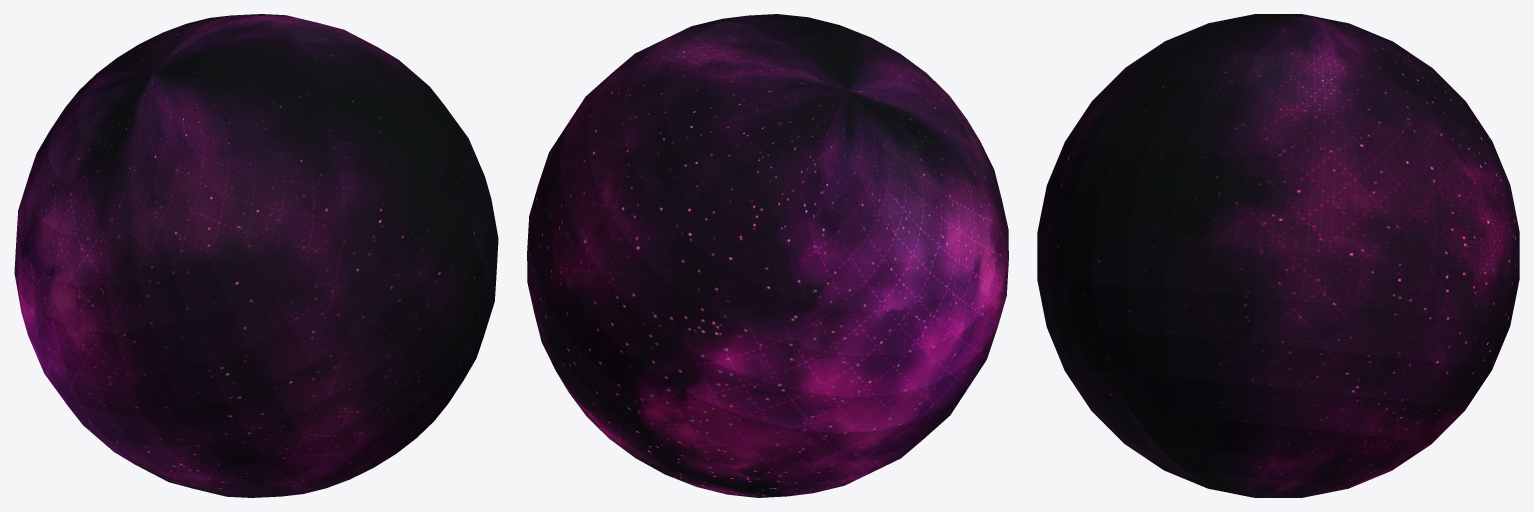
3 renders of one model, left to right at view 1: azimuth 30°, elevation 25°; view 2: azimuth 150°, elevation 25°; view 3: azimuth 270°, elevation 25°, orthographic.
Parts seen in each view (by area): view 1: Sphere_13; view 2: Sphere_13; view 3: Sphere_13.
Boxes of the visible parts, x1,y1,x2,y2 form: Sphere_13: (14, 14, 498, 497); Sphere_13: (527, 14, 1008, 497); Sphere_13: (1037, 14, 1519, 497).
Size of the model in its own units: 4451 by 4453 by 4431.
14 materials, 14 textured.
